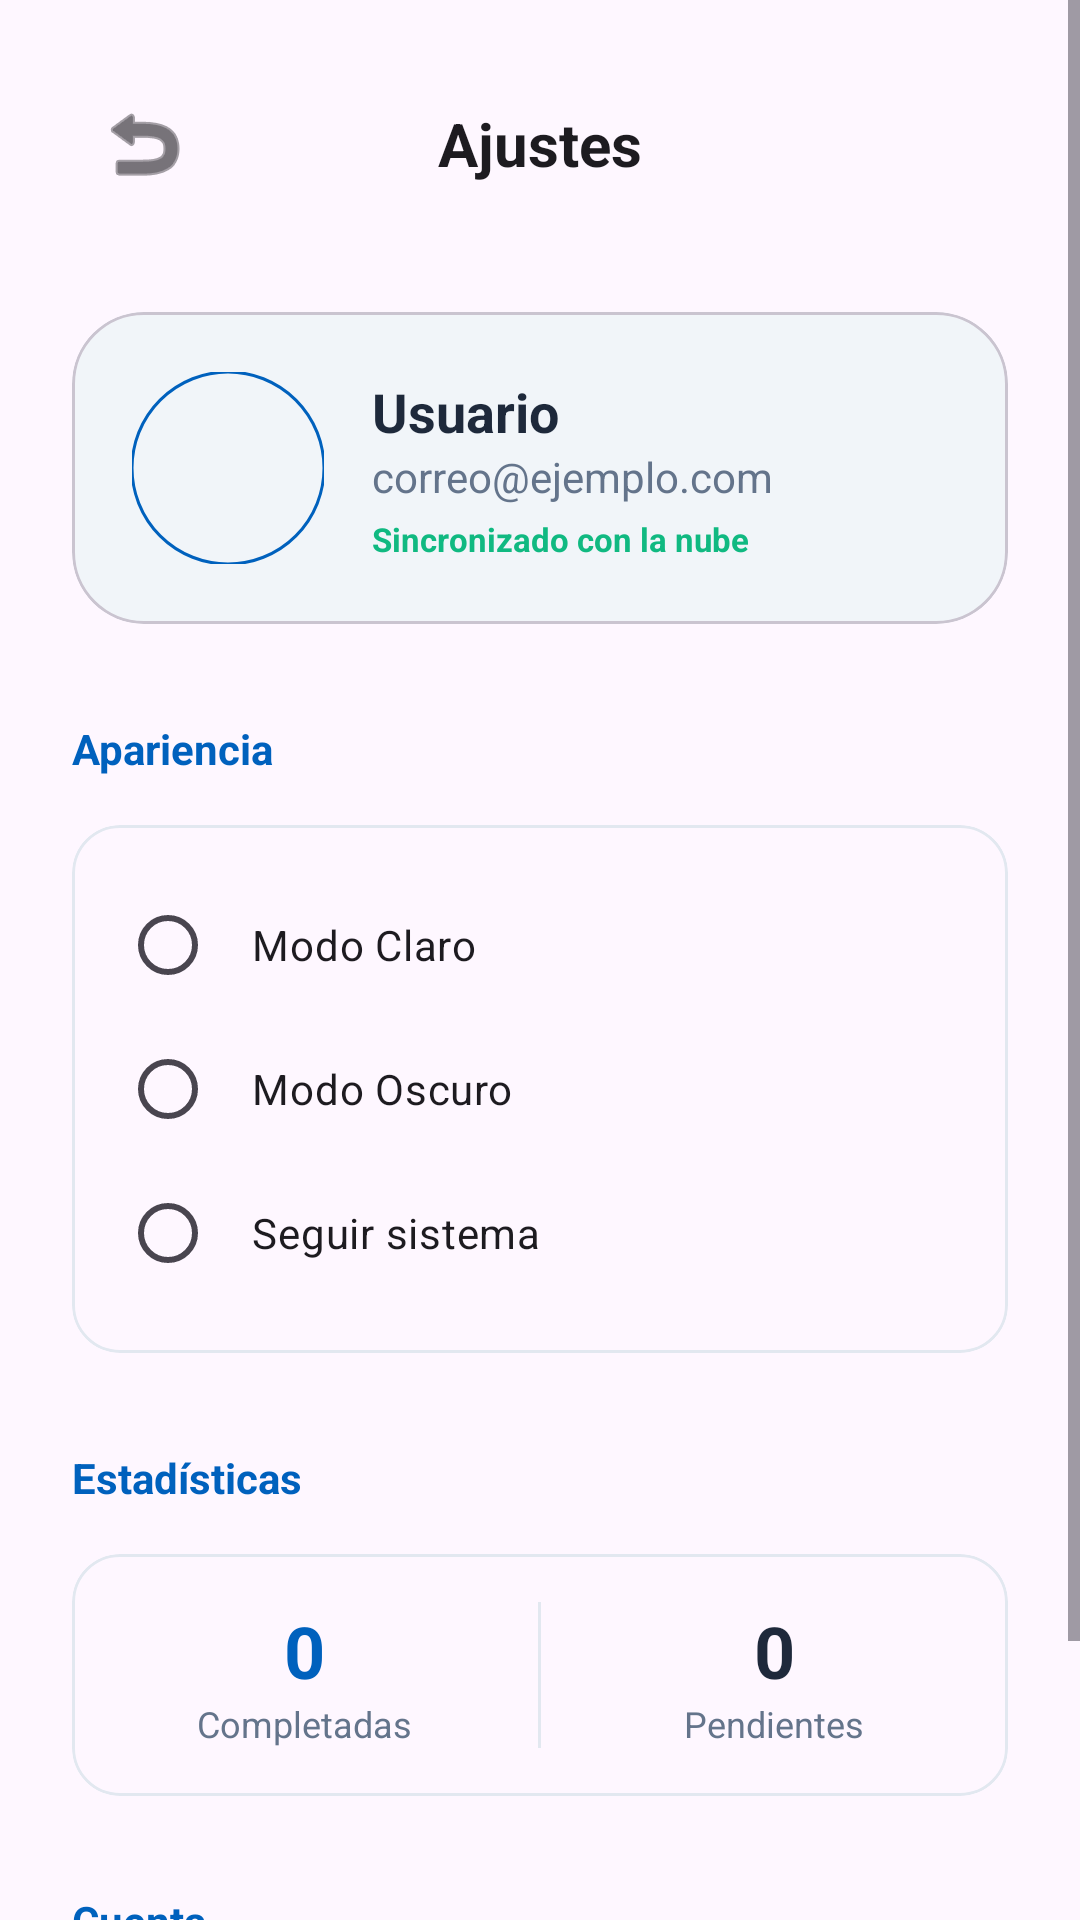

Screen size 1080*1920. Icon name, then its center in pixels as (x,y):
Atrás: (145,144)
